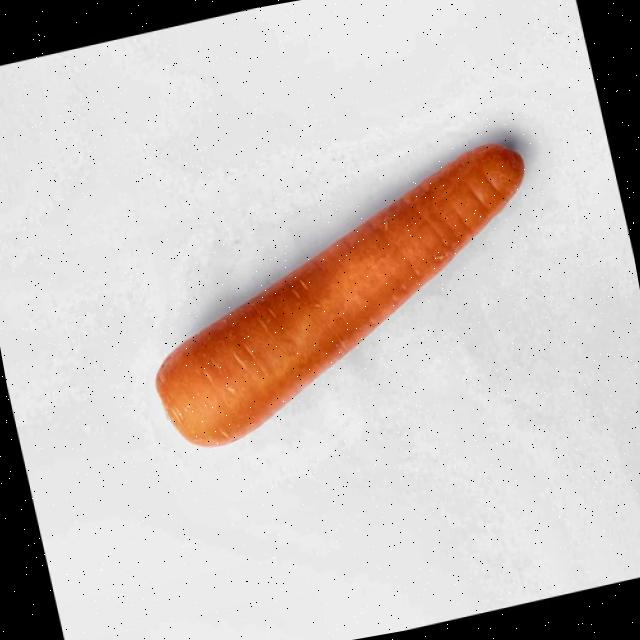carrot: (155, 143, 522, 445)
